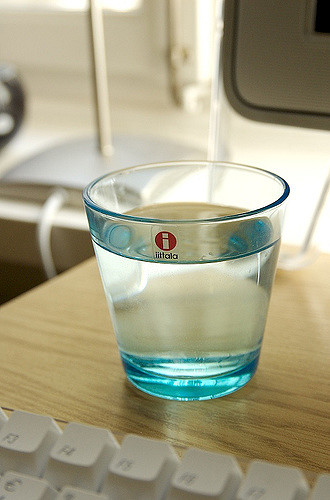glass of water: (75, 156, 292, 409)
